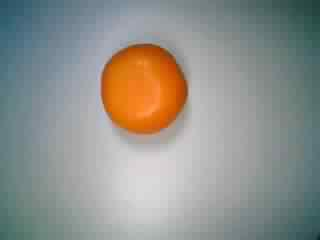orange: (97, 42, 192, 136)
